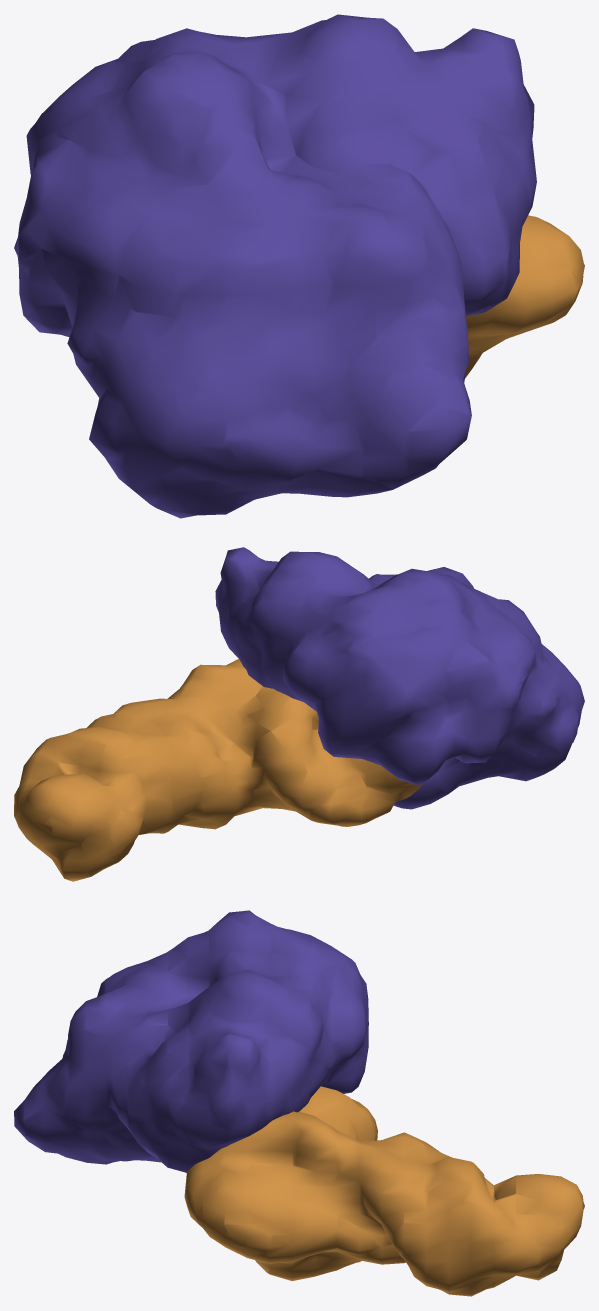
The model's file is onemer1TTT.fbx.
3 views of the same model, one above another, from view 1: azimuth 30°, elevation 25°; view 2: azimuth 150°, elevation 25°; view 3: azimuth 270°, elevation 25° (orthographic). The views are drawn at different scales.
Parts seen in each view (by area): view 1: CoarseMS_1tttBioSimp, CoarseMS_1tttBioSimp_Selection0; view 2: CoarseMS_1tttBioSimp, CoarseMS_1tttBioSimp_Selection0; view 3: CoarseMS_1tttBioSimp, CoarseMS_1tttBioSimp_Selection0.
Boxes of the visible parts, bbox=[...] form: CoarseMS_1tttBioSimp: bbox=[14, 14, 536, 518]; CoarseMS_1tttBioSimp_Selection0: bbox=[465, 215, 584, 378]; CoarseMS_1tttBioSimp: bbox=[215, 547, 584, 809]; CoarseMS_1tttBioSimp_Selection0: bbox=[14, 659, 423, 881]; CoarseMS_1tttBioSimp: bbox=[14, 910, 368, 1172]; CoarseMS_1tttBioSimp_Selection0: bbox=[184, 1086, 584, 1296].
Bounding box in the file's own units: 85.01 × 56.19 × 107.
